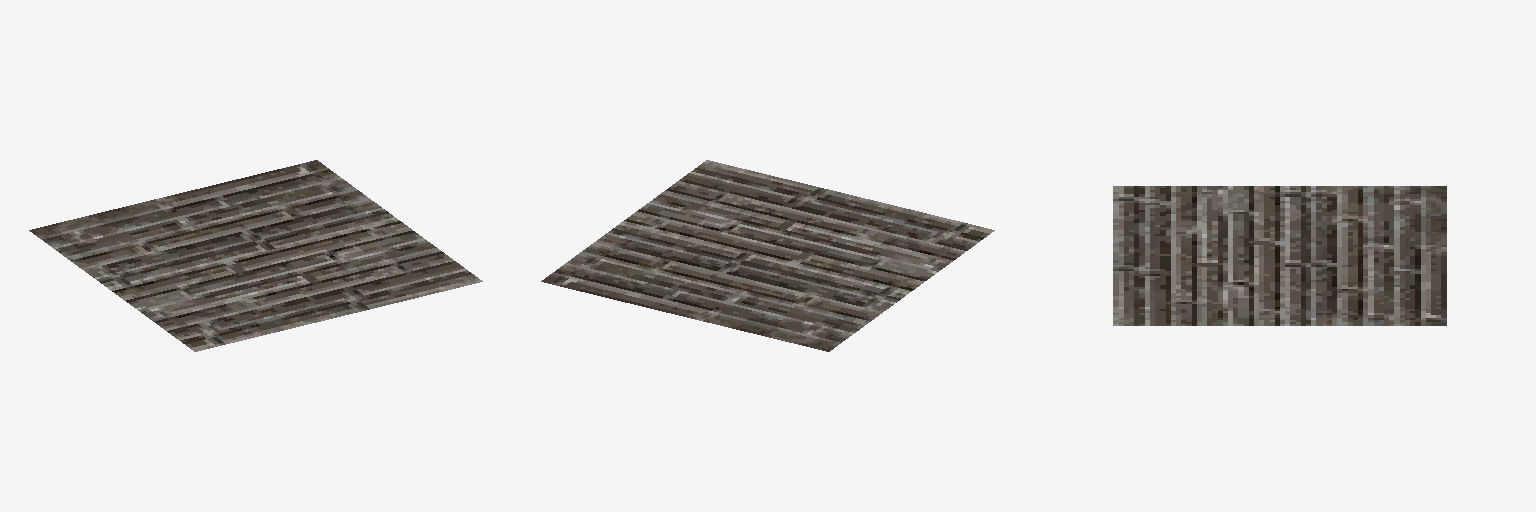
3 renders of one model, left to right at view 1: azimuth 30°, elevation 25°; view 2: azimuth 150°, elevation 25°; view 3: azimuth 270°, elevation 25°, orthographic.
Parts seen in each view (by area): view 1: floor_flat; view 2: floor_flat; view 3: floor_flat.
Part boxes in pixels (x1,y1,x2,y2): floor_flat: (29, 160, 482, 351); floor_flat: (541, 160, 994, 351); floor_flat: (1113, 186, 1446, 325).
Bounding box in the file's own units: 1 × 0 × 1.
Materials: 1 (1 with a texture image).